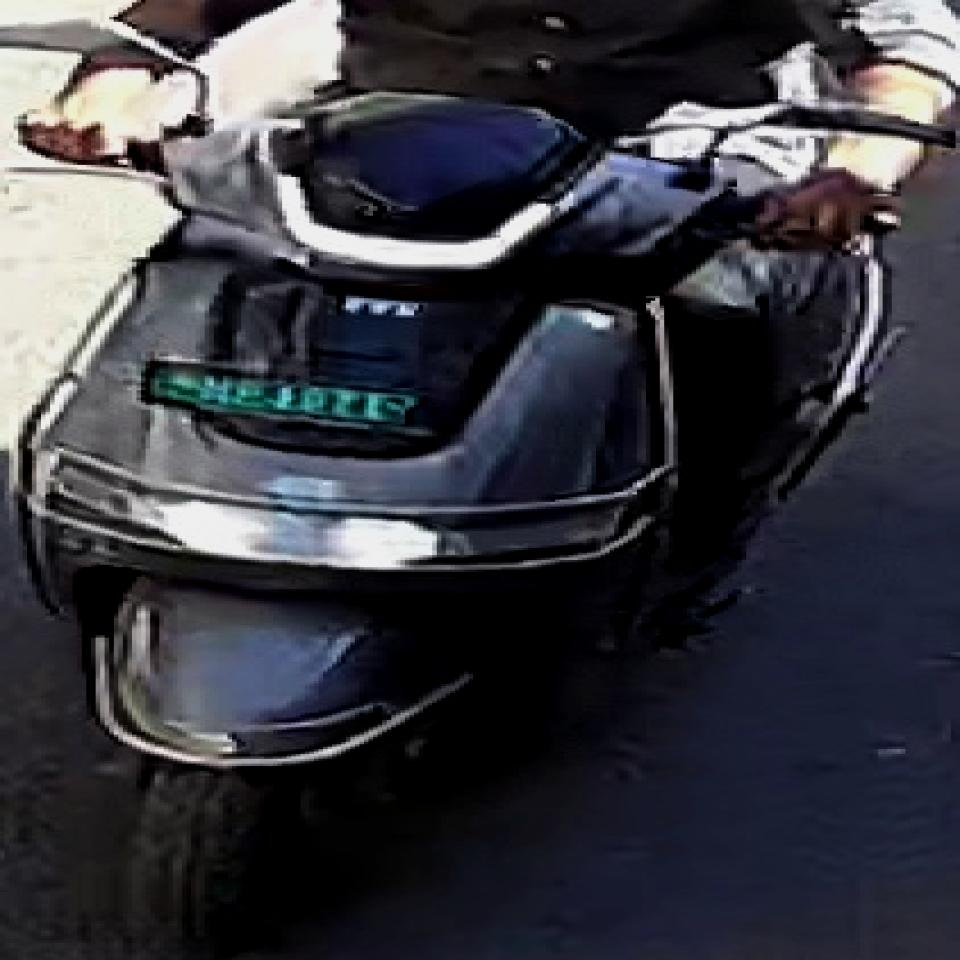head_light: (144, 497, 451, 575)
